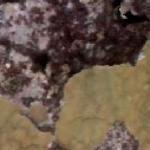alive: (3, 2, 146, 148)
